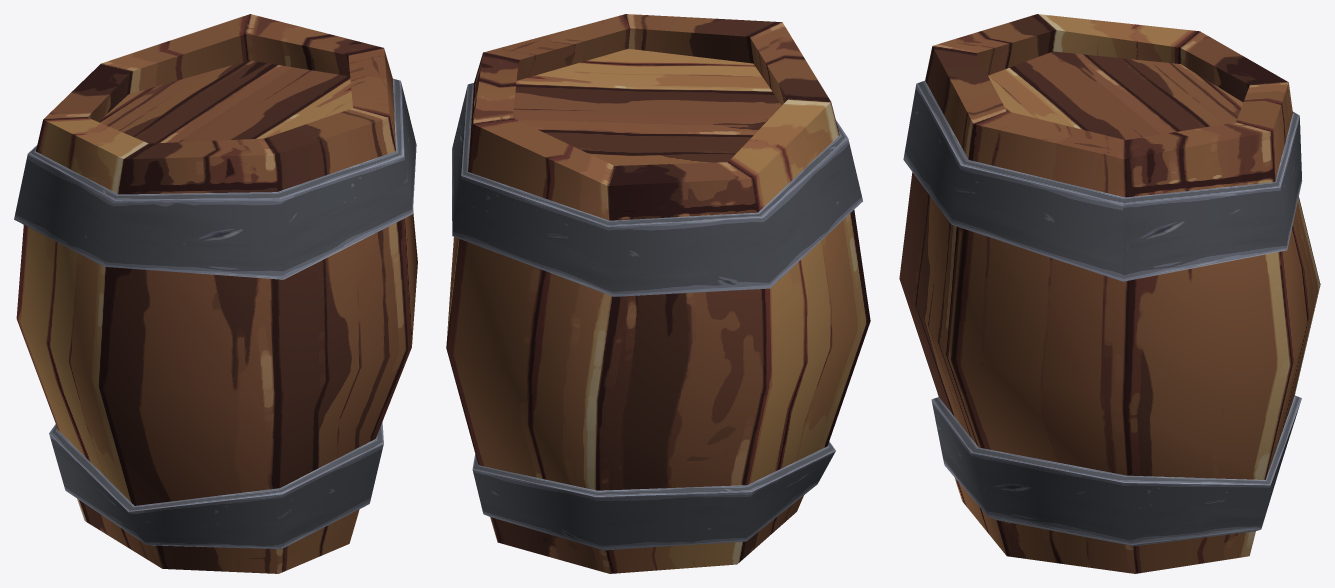
File: SM_PROP_barrel_01.fbx
The picture shows the model from 3 angles, left to right: view 1: azimuth 30°, elevation 25°; view 2: azimuth 150°, elevation 25°; view 3: azimuth 270°, elevation 25°; orthographic projection. The views are drawn at different scales.
Visible parts, largest first — view 1: SM_PROP_barrel_01; view 2: SM_PROP_barrel_01; view 3: SM_PROP_barrel_01.
Part boxes in pixels (left/top/right/bottom): SM_PROP_barrel_01: left=14, top=14, right=417, bottom=573; SM_PROP_barrel_01: left=446, top=14, right=870, bottom=573; SM_PROP_barrel_01: left=899, top=14, right=1320, bottom=573.
Bounding box in the file's own units: 77.16 × 89.29 × 74.97.
